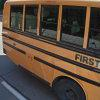Bus: (2, 2, 100, 98)
